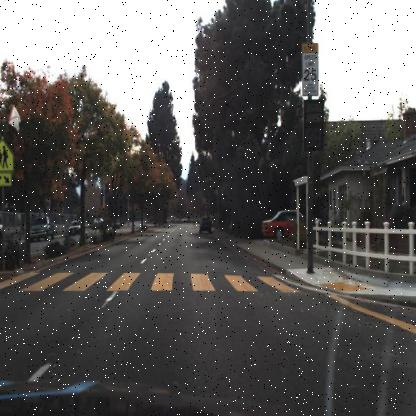car: (259, 209, 322, 238), (30, 216, 56, 242), (198, 214, 214, 235), (67, 218, 84, 234)
